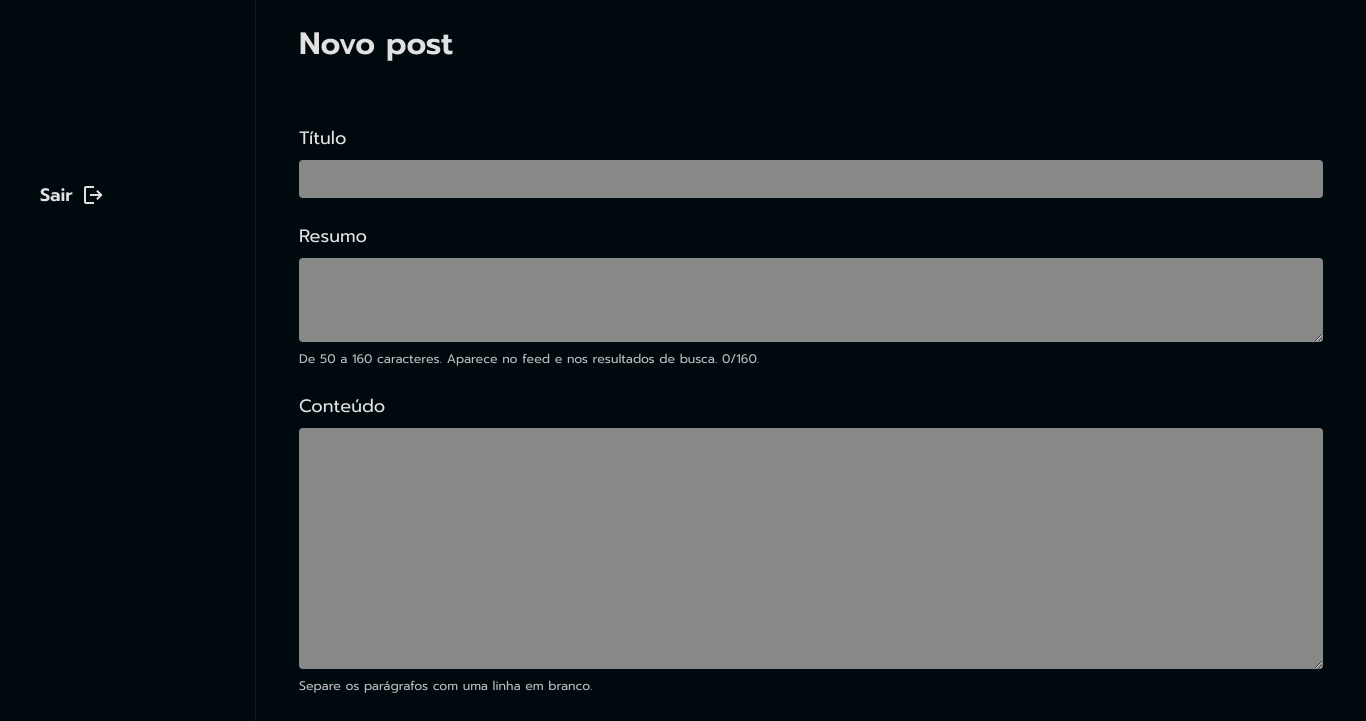
Scenario: NewPostPage › reports a submission failure
This screenshot has width=1366, height=721.
In the field labelled "Título": x=811, y=179 [299, 160, 1323, 198], type "Um novo post"
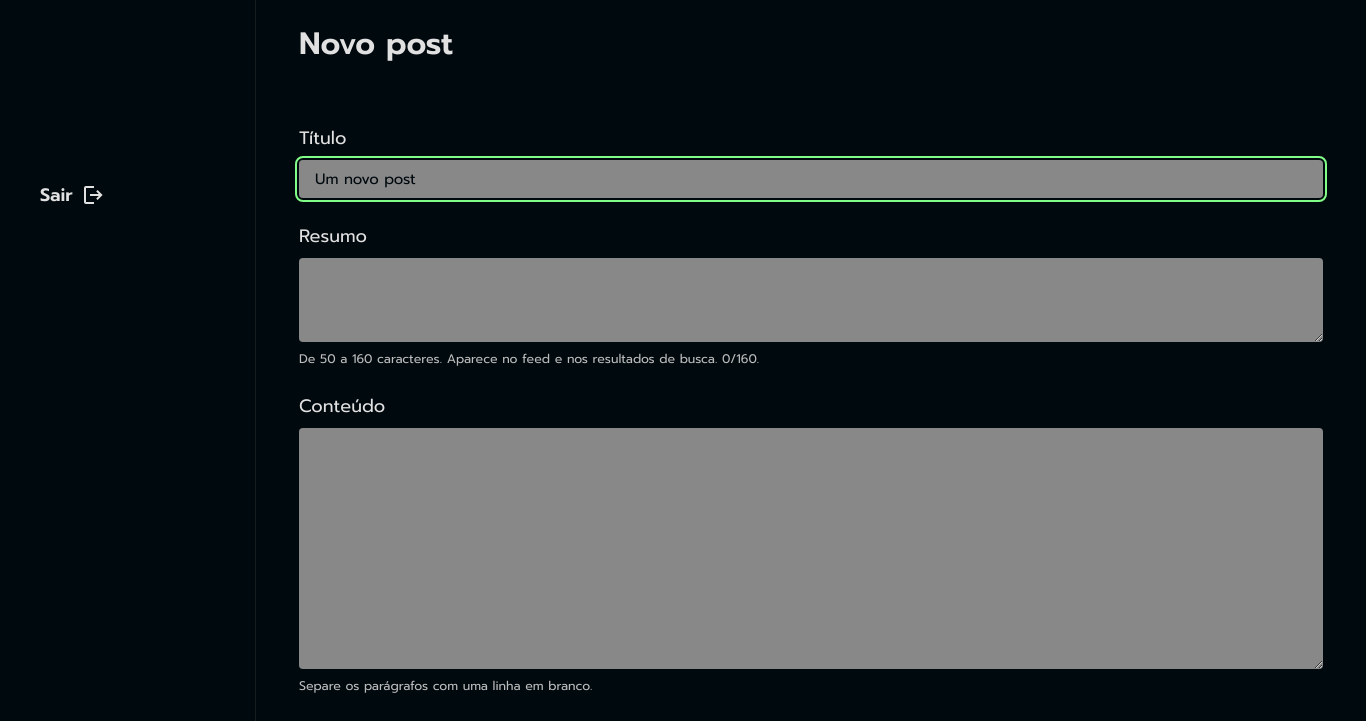
In the text box labelled "Resumo": x=811, y=300 [299, 258, 1323, 342], type "Um resumo com tamanho suficiente para servir de meta descrição da página."
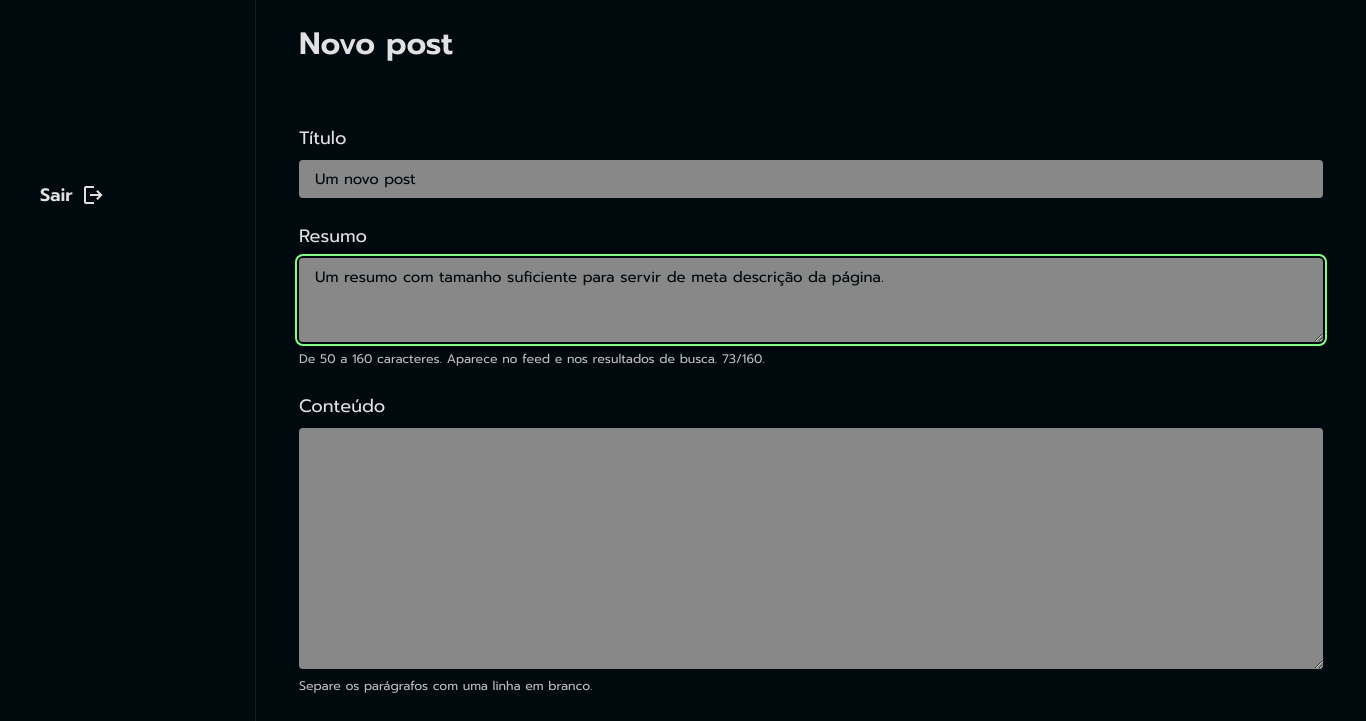
In the text box labelled "Conteúdo": x=811, y=549 [299, 428, 1323, 669], type "Corpo com conteúdo suficiente."
(page scrolled)
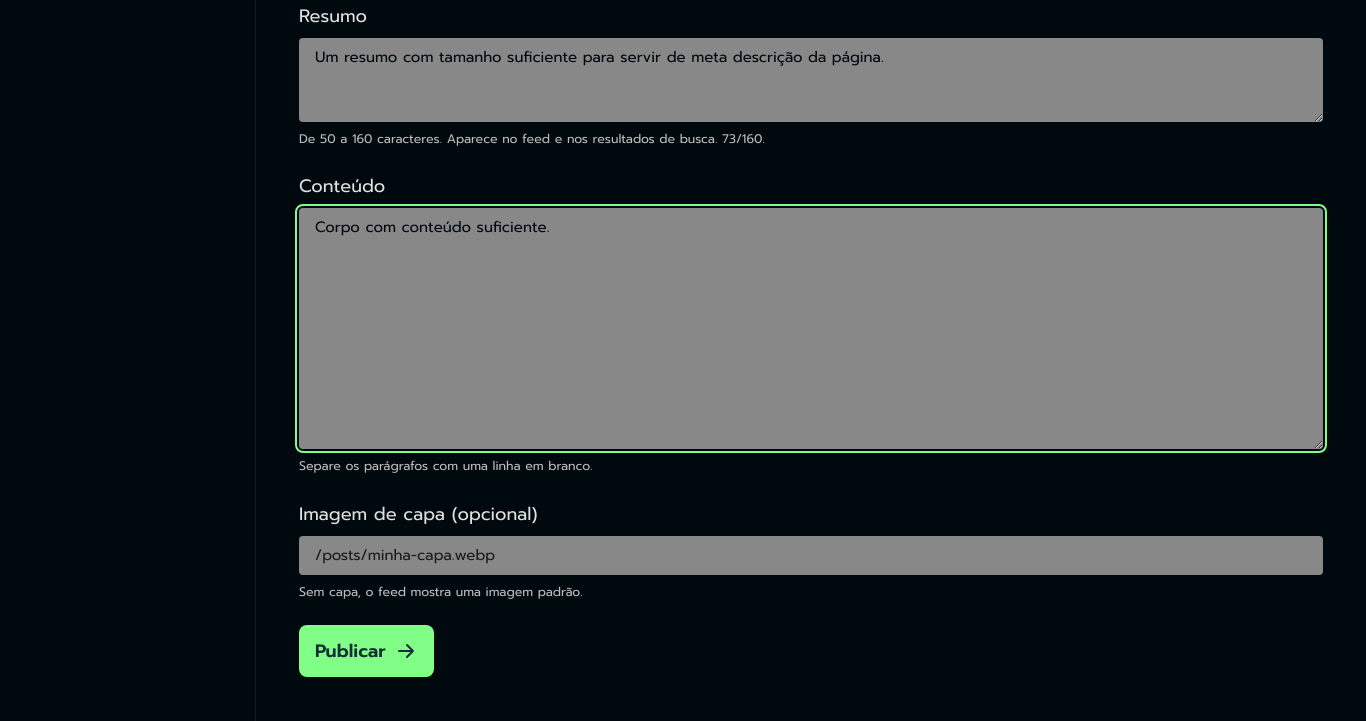
Click the button "Publicar": x=366, y=651 [299, 625, 434, 677]
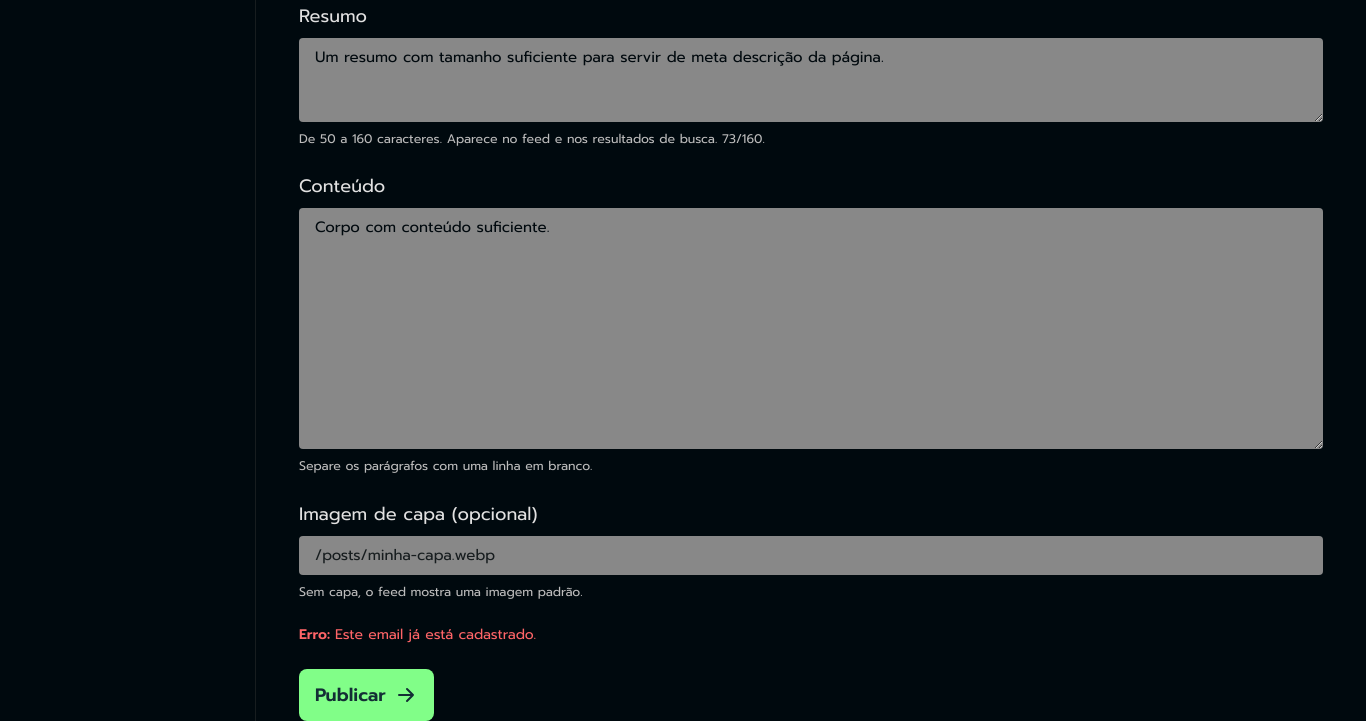
Now the message "Erro: Este email já está cadastrado." is shown, box [299, 624, 536, 645]
